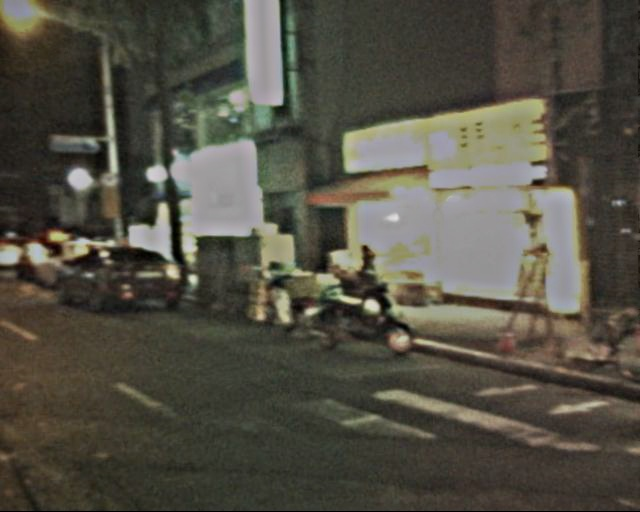person: (336, 239, 382, 325)
